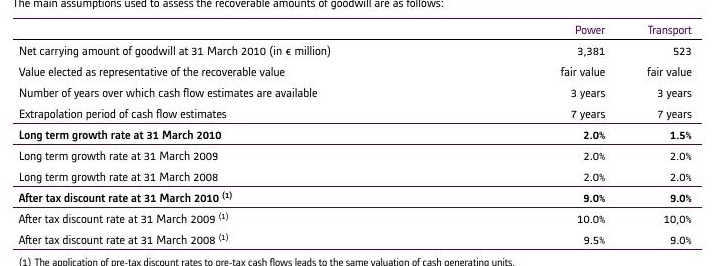table: (0, 0, 720, 266)
